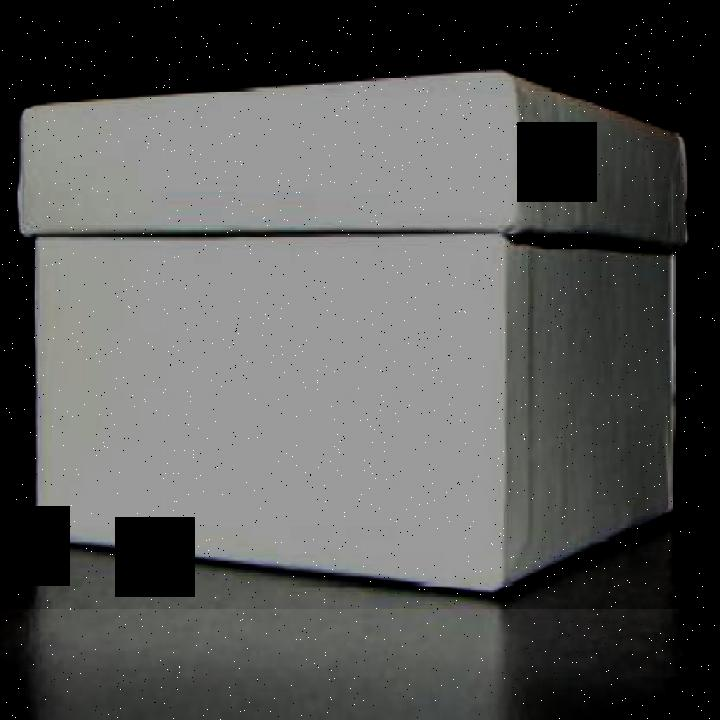box: (3, 61, 705, 609)
